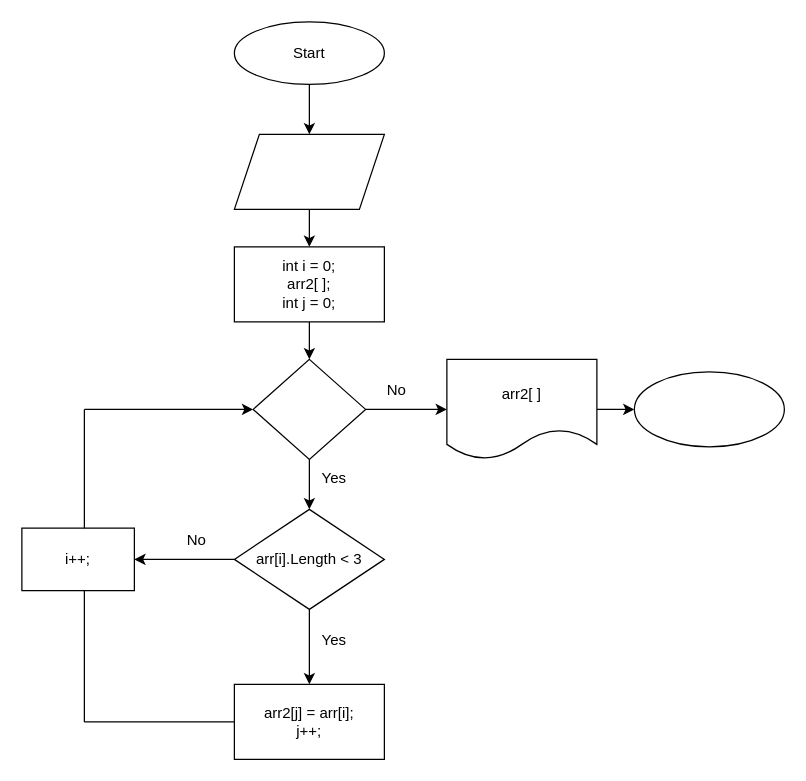
This 806x781 diagram has some shape labels left out. The shapes that lost their labels are listed below. From the top down, each one's box as (x1, y1, x2, y2) in pixels, then its label:
(233, 133, 384, 209): arr[ ]
(252, 358, 366, 459): i < arr.Length
(633, 371, 784, 447): End
